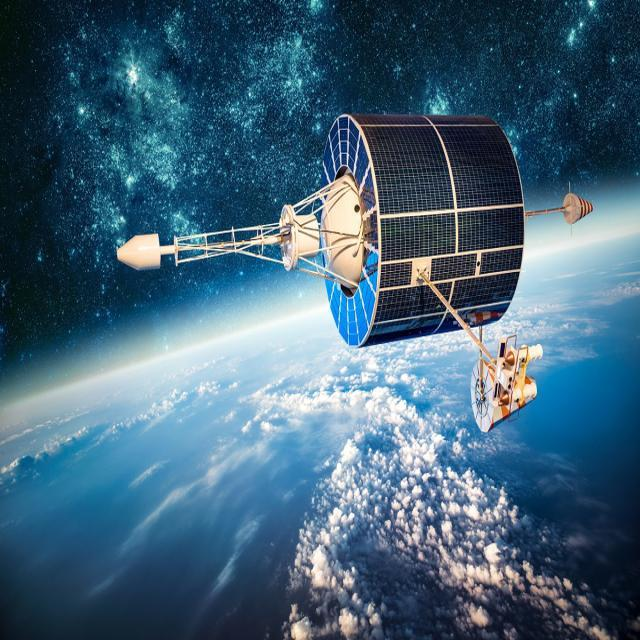sat: (96, 90, 608, 454)
